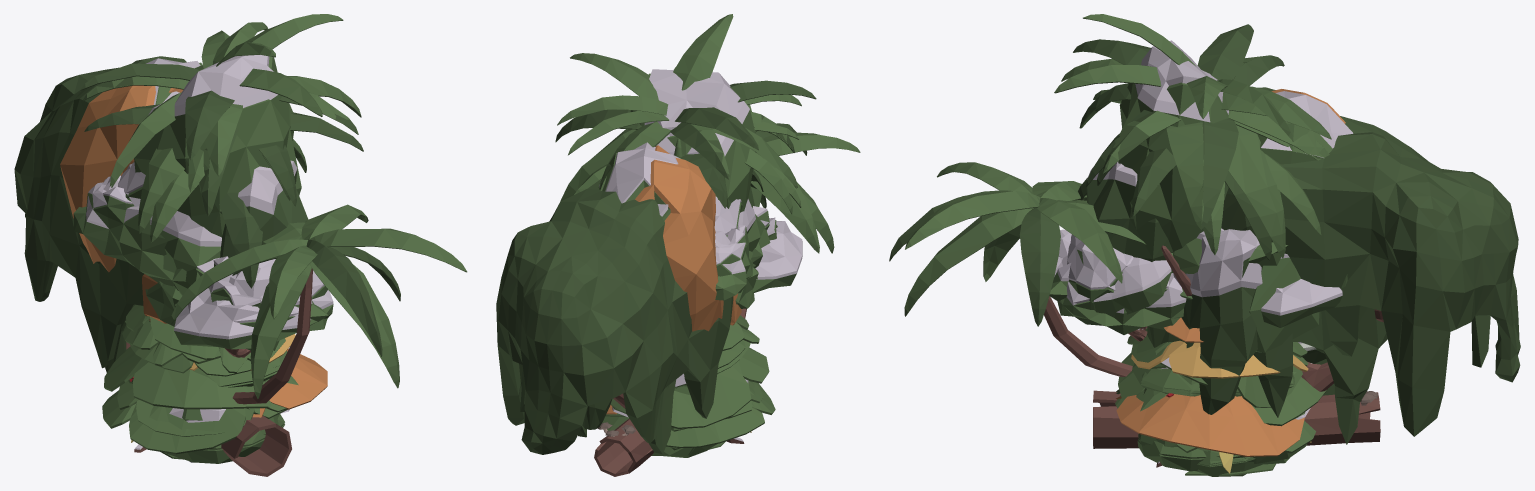
The model's file is nature.glb.
3 renders of one model, left to right at view 1: azimuth 30°, elevation 25°; view 2: azimuth 150°, elevation 25°; view 3: azimuth 270°, elevation 25°, orthographic. The views are drawn at different scales.
Parts seen in each view (by area): view 1: PalmTree_2, Willow_2, PalmTree_1, BirchTree_Snow_2, PineTree_2, BirchTree_Autumn_1, PalmTree_4, PineTree_3, PalmTree_3, CommonTree_Snow_2, BirchTree_2, CommonTree_Snow_1 (+10 smaller); view 2: Willow_2, BirchTree_Autumn_1, PalmTree_3, PalmTree_1, BirchTree_Snow_2, PineTree_2, PalmTree_2, PineTree_3, WoodLog, BirchTree_Snow_1, CommonTree_Snow_2, CommonTree_Snow_1 (+10 smaller); view 3: Willow_2, PalmTree_2, PalmTree_1, PalmTree_3, PineTree_Autumn_1, Willow_Snow_1, BirchTree_Snow_2, CommonTree_Snow_1, Willow_1, WoodLog, PalmTree_4, BirchTree_2 (+10 smaller).
Part boxes in pixels (x1=…): PalmTree_2: x1=170, y1=204, x2=467, y2=404; Willow_2: x1=14, y1=56, x2=186, y2=368; PalmTree_1: x1=80, y1=14, x2=361, y2=216; BirchTree_Snow_2: x1=134, y1=55, x2=306, y2=244; PineTree_2: x1=104, y1=304, x2=271, y2=409; BirchTree_Autumn_1: x1=60, y1=85, x2=182, y2=323; PalmTree_4: x1=84, y1=104, x2=363, y2=288; PineTree_3: x1=102, y1=320, x2=298, y2=454; PalmTree_3: x1=82, y1=31, x2=360, y2=233; CommonTree_Snow_2: x1=118, y1=162, x2=327, y2=357; BirchTree_2: x1=134, y1=56, x2=308, y2=350; CommonTree_Snow_1: x1=174, y1=259, x2=333, y2=339; Willow_2: x1=496, y1=178, x2=733, y2=454; BirchTree_Autumn_1: x1=635, y1=145, x2=741, y2=331; PalmTree_3: x1=555, y1=80, x2=816, y2=214; PalmTree_1: x1=557, y1=14, x2=801, y2=187; BirchTree_Snow_2: x1=644, y1=69, x2=756, y2=211; PineTree_2: x1=610, y1=138, x2=769, y2=428; PalmTree_2: x1=740, y1=104, x2=860, y2=318; PineTree_3: x1=602, y1=327, x2=775, y2=447; WoodLog: x1=594, y1=418, x2=653, y2=476; BirchTree_Snow_1: x1=599, y1=142, x2=680, y2=216; CommonTree_Snow_2: x1=714, y1=196, x2=777, y2=279; CommonTree_Snow_1: x1=753, y1=221, x2=802, y2=292; Willow_2: x1=1221, y1=116, x2=1520, y2=436; PalmTree_2: x1=889, y1=162, x2=1173, y2=376; PalmTree_1: x1=1054, y1=14, x2=1330, y2=260; PalmTree_3: x1=1073, y1=39, x2=1331, y2=257; PineTree_Autumn_1: x1=1116, y1=317, x2=1308, y2=456; Willow_Snow_1: x1=1147, y1=229, x2=1387, y2=444; BirchTree_Snow_2: x1=1086, y1=40, x2=1228, y2=261; CommonTree_Snow_1: x1=1054, y1=229, x2=1342, y2=337; Willow_1: x1=1148, y1=257, x2=1375, y2=440; WoodLog: x1=1093, y1=390, x2=1380, y2=448; PalmTree_4: x1=1078, y1=87, x2=1321, y2=254; BirchTree_2: x1=1088, y1=82, x2=1228, y2=261.
Size of the model in its own units: 2.88 by 4.62 by 5.87.
